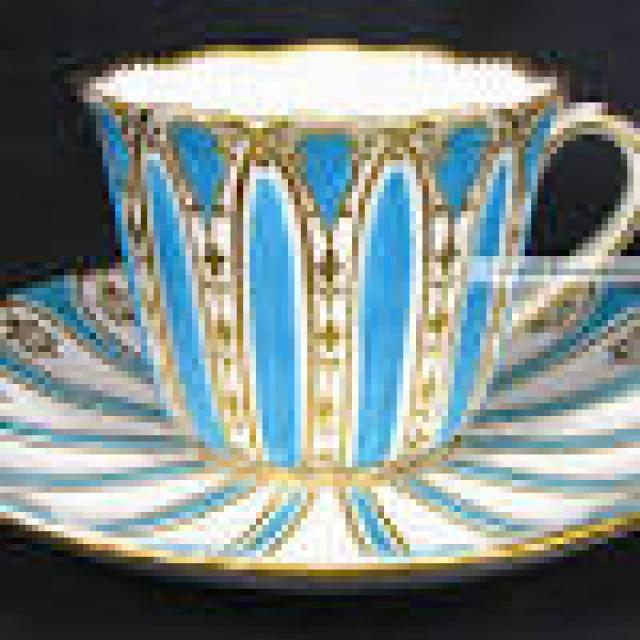taza: (60, 32, 638, 480)
